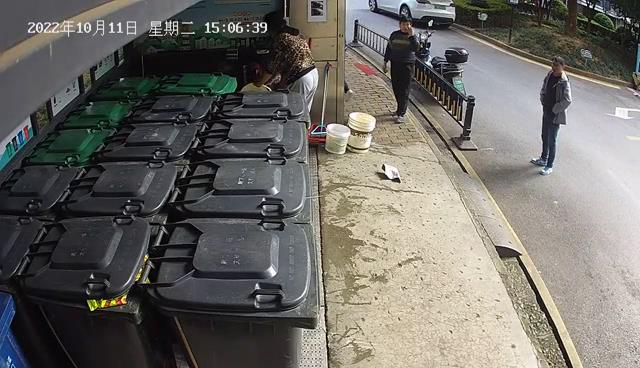person: (245, 8, 322, 134), (527, 51, 575, 180), (380, 13, 423, 126)
zhizhipin: (376, 159, 403, 184)
